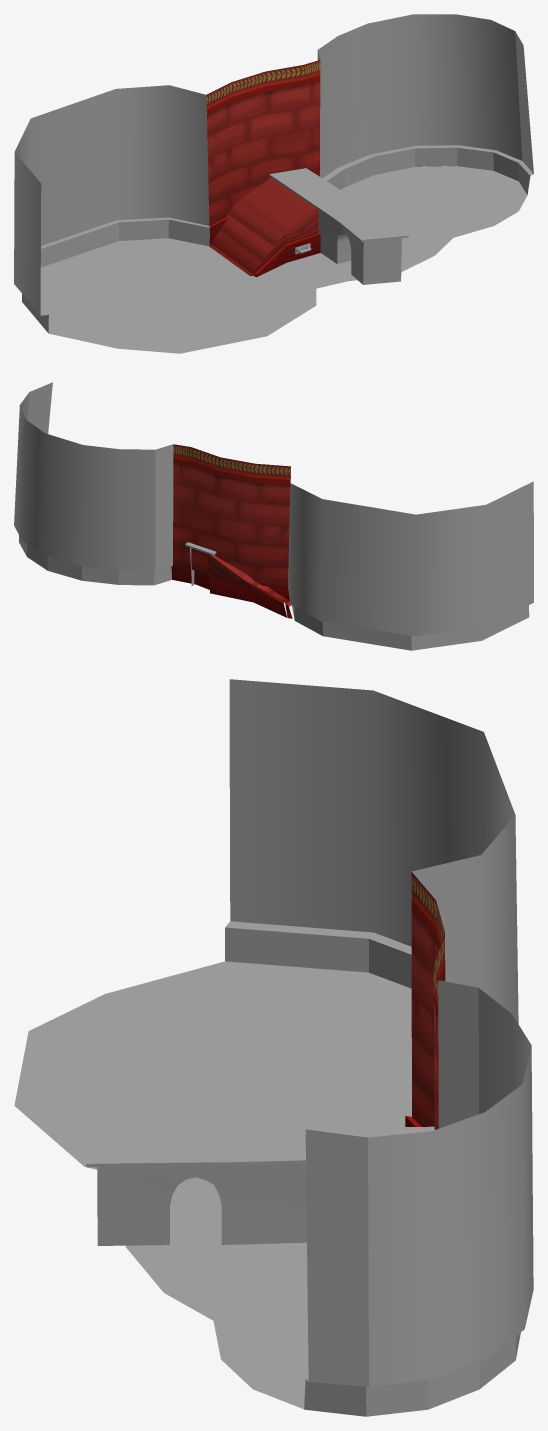
Rendered from Cancer_std_RoomBLOCKOUT.fbx.
3 renders of one model, top to bottom at view 1: azimuth 30°, elevation 25°; view 2: azimuth 150°, elevation 25°; view 3: azimuth 270°, elevation 25°, orthographic. The views are drawn at different scales.
Visible parts, largest first — view 1: Curved_Wall, Floor, Stair_Wall, Archway, Stair_Wall1; view 2: Curved_Wall, Stair_Wall, Stair_Wall1; view 3: Curved_Wall, Floor, Archway, Stair_Wall.
Part boxes in pixels (left/top/right/bottom): Curved_Wall: left=14, top=14, right=533, bottom=333; Floor: left=40, top=166, right=526, bottom=353; Stair_Wall: left=206, top=60, right=320, bottom=245; Archway: left=269, top=168, right=408, bottom=284; Stair_Wall1: left=209, top=178, right=320, bottom=277; Curved_Wall: left=14, top=382, right=533, bottom=650; Stair_Wall: left=171, top=444, right=290, bottom=601; Stair_Wall1: left=207, top=554, right=292, bottom=618; Curved_Wall: left=225, top=679, right=533, bottom=1416; Floor: left=14, top=961, right=411, bottom=1409; Archway: left=86, top=1126, right=434, bottom=1245; Stair_Wall: left=405, top=872, right=445, bottom=1129.
Bounding box in the file's own units: 49.59 × 15.37 × 23.37.
